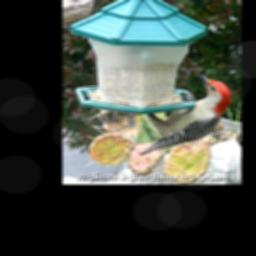Woodpecker: (138, 72, 232, 155)
